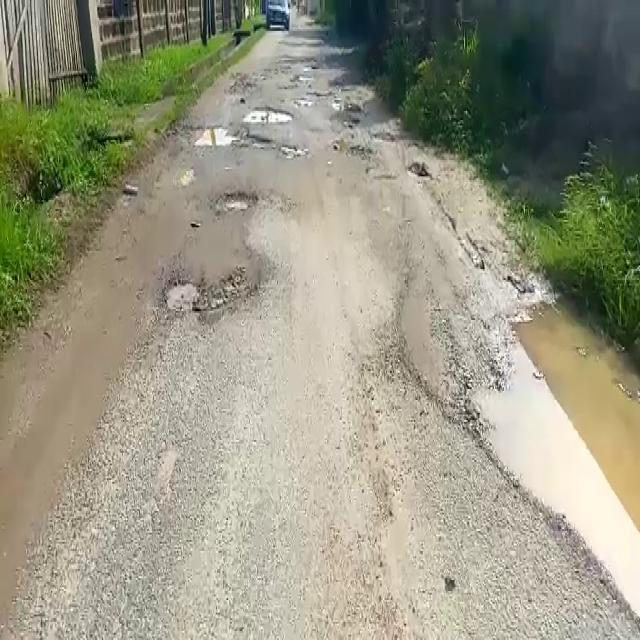Pothole: (468, 299, 639, 615), (163, 276, 244, 313), (182, 122, 239, 148), (244, 106, 294, 124), (219, 190, 255, 213), (406, 162, 431, 184)
